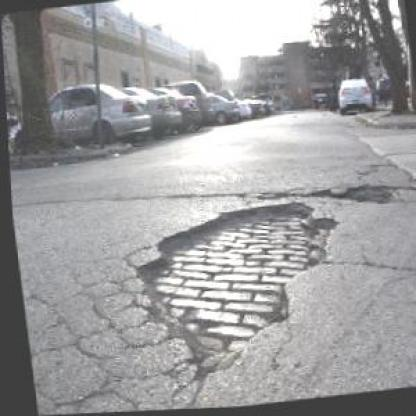pothole: (116, 196, 350, 388), (333, 181, 399, 214)
